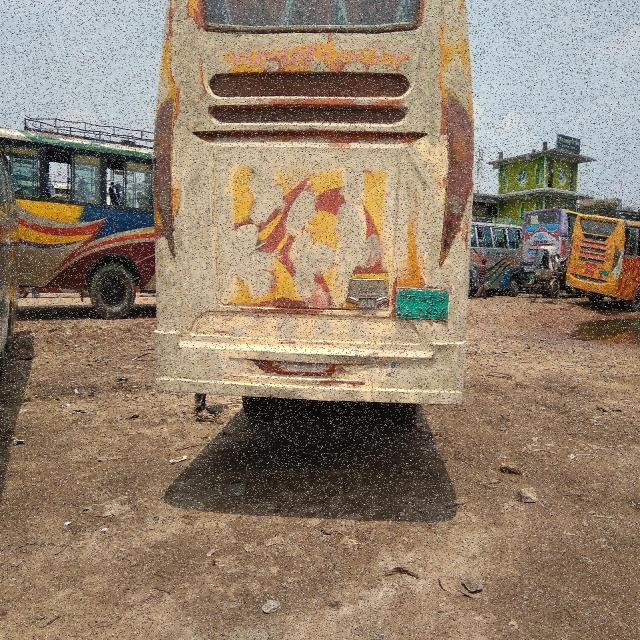numberplate: (394, 286, 449, 320)
